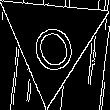O_NW: (24, 8, 80, 73)
